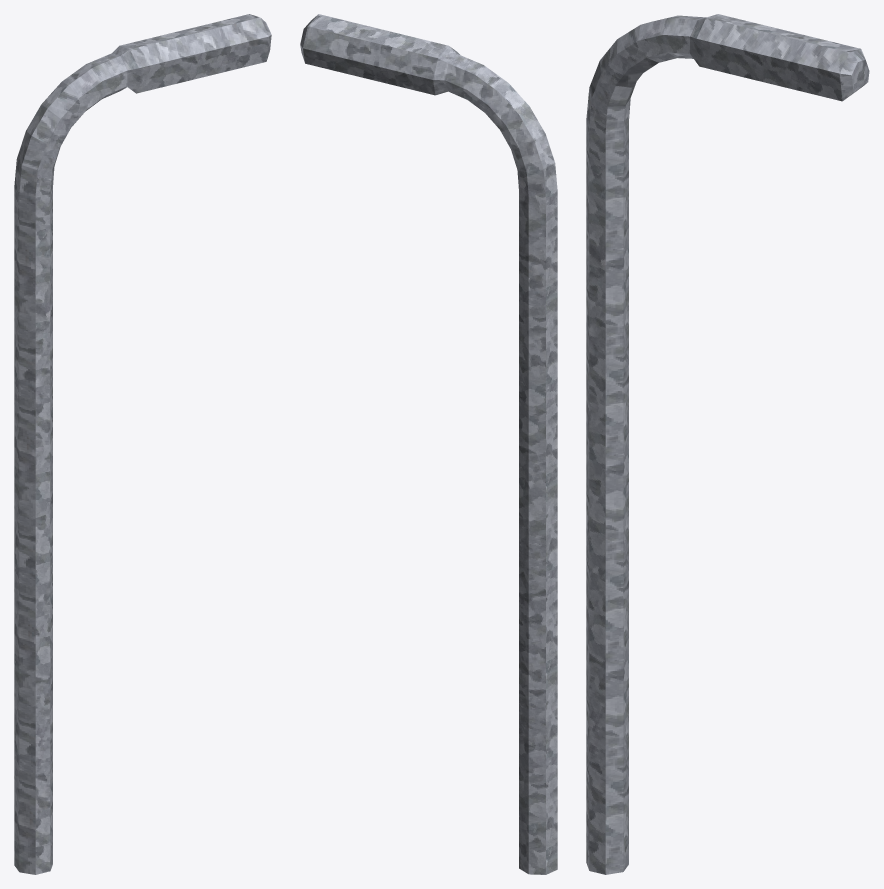
Rendered from lamp.fbx.
The picture shows the model from 3 angles, left to right: view 1: azimuth 30°, elevation 25°; view 2: azimuth 150°, elevation 25°; view 3: azimuth 330°, elevation 25°; orthographic projection. The views are drawn at different scales.
Visible parts, largest first — view 1: Lamp; view 2: Lamp; view 3: Lamp.
Part boxes in pixels (x1,y1,x2,y2): Lamp: (14, 14, 271, 874); Lamp: (300, 14, 557, 874); Lamp: (586, 14, 869, 874).
Bounding box in the file's own units: 57.17 × 176 × 9.83.
